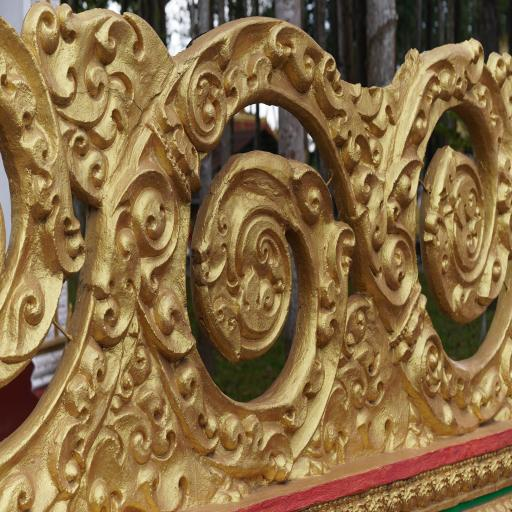la: (100, 13, 362, 486), (351, 13, 512, 470), (28, 14, 154, 192)
